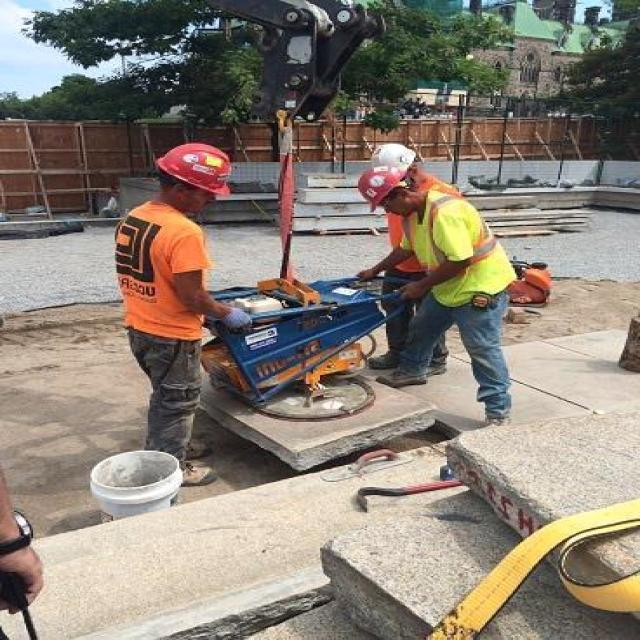face_nomask: (171, 176, 219, 226), (379, 182, 428, 224)
hand_glove: (212, 298, 270, 341)
hand_noglove: (379, 281, 426, 311), (348, 260, 374, 294)
head_helmet: (155, 142, 235, 196), (356, 165, 408, 208), (374, 140, 421, 175)
person: (111, 142, 236, 488), (356, 162, 512, 426)
vest: (404, 188, 513, 303)
